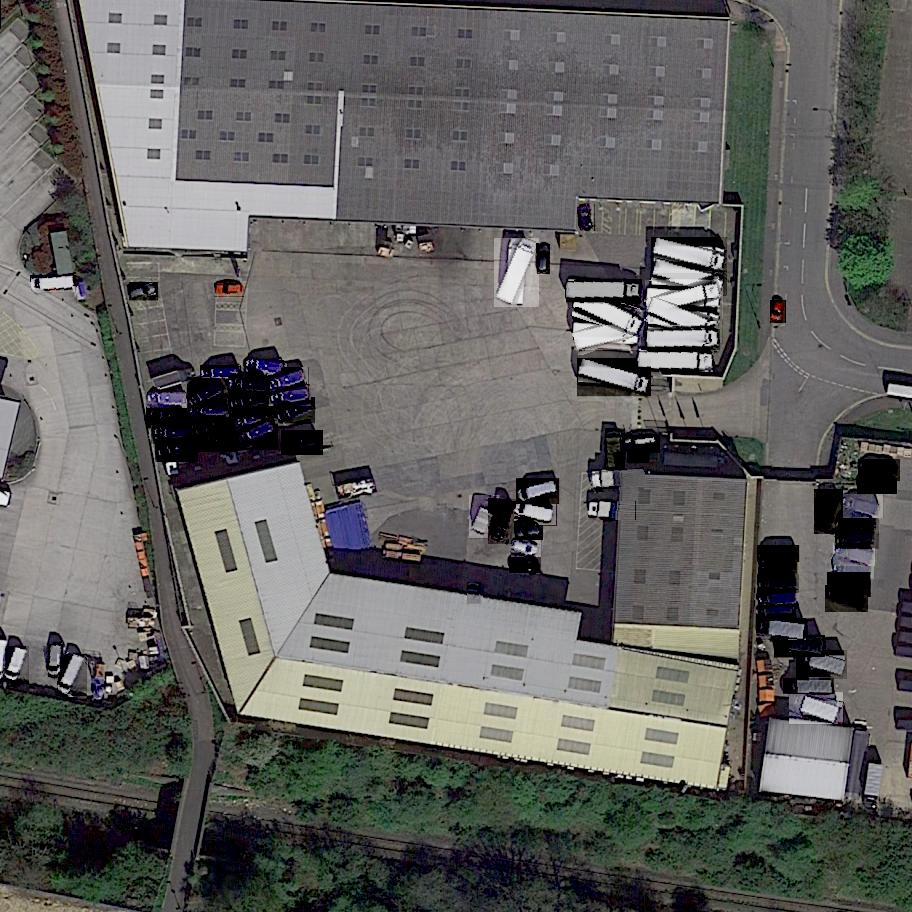large-vehicle: (648, 297, 723, 345), (572, 290, 646, 338), (494, 238, 543, 309), (645, 281, 725, 320), (578, 359, 652, 400), (651, 258, 727, 297), (651, 237, 728, 275), (573, 317, 643, 351), (789, 693, 843, 727), (566, 279, 641, 302), (794, 651, 848, 681), (191, 410, 237, 445), (646, 329, 720, 350), (638, 351, 714, 371), (235, 419, 280, 452), (188, 378, 230, 413), (488, 498, 519, 545), (814, 489, 845, 535), (469, 496, 501, 540), (232, 404, 275, 434), (827, 570, 873, 598), (229, 389, 274, 417), (274, 397, 316, 426), (269, 367, 311, 396), (153, 436, 198, 463), (825, 585, 870, 612), (774, 636, 826, 659), (756, 619, 808, 642), (592, 470, 646, 492), (842, 494, 884, 521), (281, 430, 323, 456), (833, 543, 877, 567), (835, 527, 879, 551), (146, 407, 193, 429), (270, 386, 312, 409), (858, 460, 900, 483), (754, 588, 799, 609), (589, 501, 636, 521), (840, 512, 880, 535), (604, 429, 625, 472), (831, 559, 874, 579), (195, 433, 238, 452), (757, 574, 800, 593), (783, 678, 834, 694), (245, 359, 285, 378), (758, 545, 800, 563), (200, 366, 241, 384), (150, 426, 193, 443), (231, 379, 271, 396), (148, 393, 187, 408), (858, 479, 897, 494), (191, 402, 229, 417), (757, 607, 795, 621), (759, 561, 797, 574)
small-vehicle: (58, 654, 89, 697), (517, 479, 561, 505), (3, 646, 30, 684), (514, 504, 558, 527), (30, 276, 76, 293), (624, 435, 660, 454), (511, 540, 542, 561), (509, 557, 542, 576), (129, 282, 159, 302), (577, 204, 597, 232), (516, 525, 544, 541), (49, 645, 63, 676), (214, 283, 244, 297), (770, 300, 787, 323), (537, 245, 550, 274), (467, 582, 481, 604), (627, 451, 649, 463)
